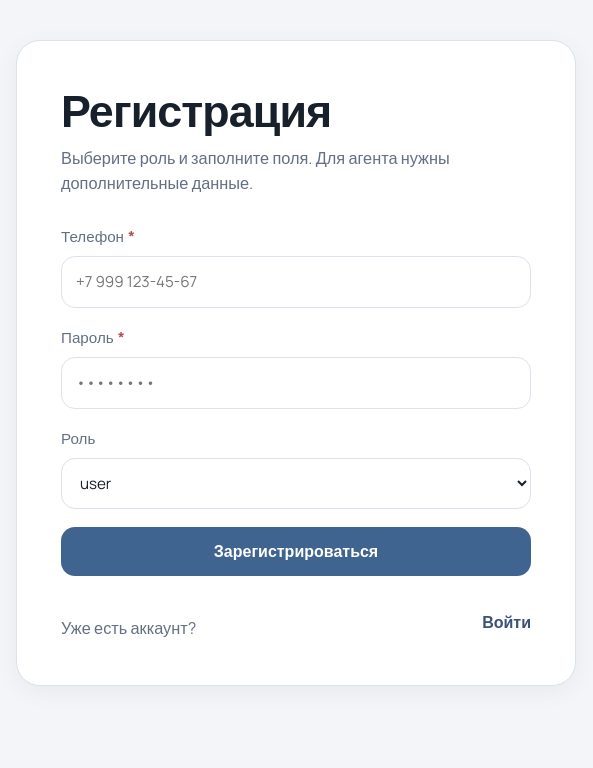
RegisterPage › shows validation error for agent role when service_name/email are empty
Select "agent" in the dropdown with id "register-role": (296, 484) [61, 458, 531, 509]
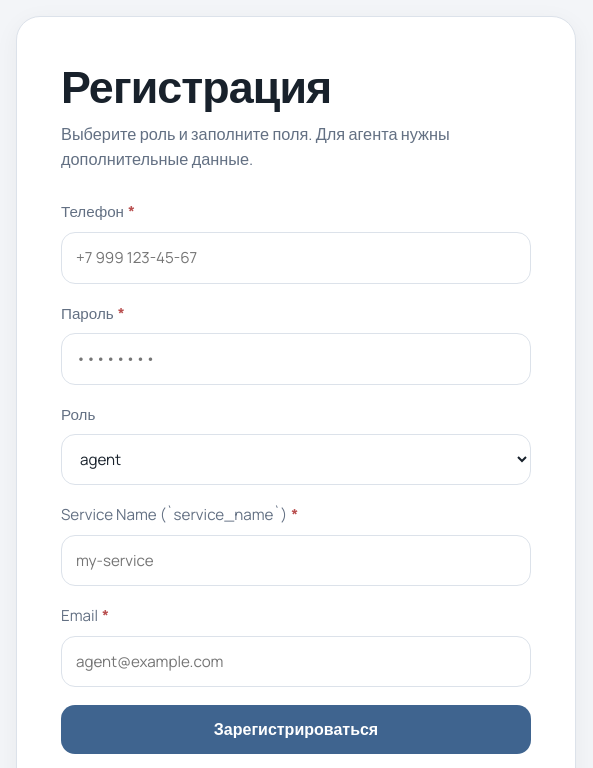
In the field with id "register-phone": (296, 258) [61, 232, 531, 284], type "79991112233"
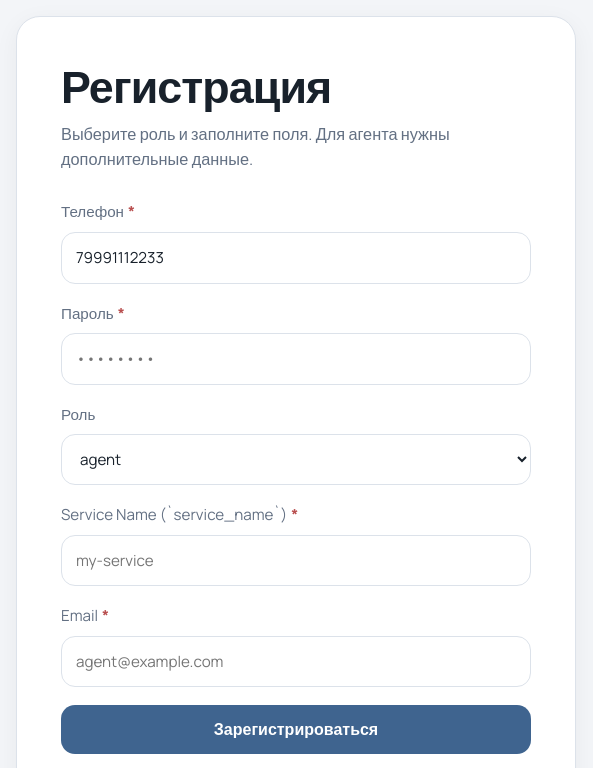
In the password field with id "register-password": (296, 359) [61, 333, 531, 385], type "secret123"
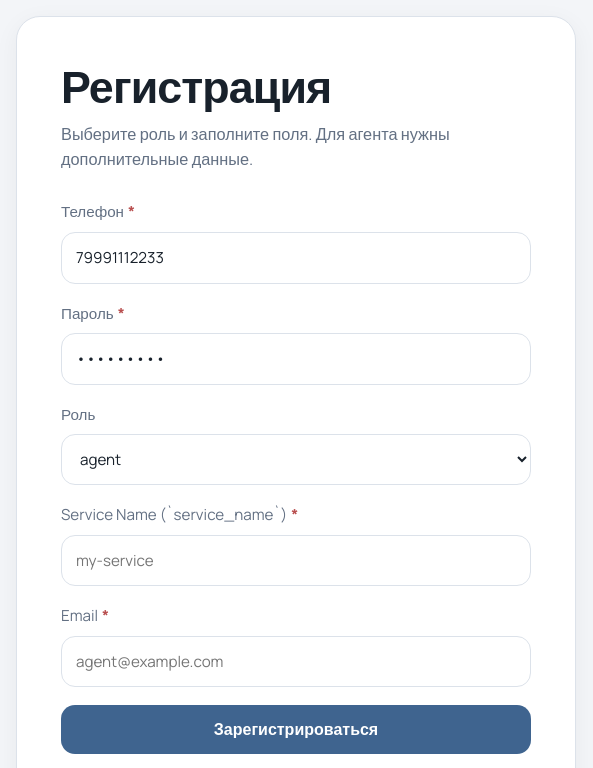
Submit the form, box [61, 200, 531, 754]
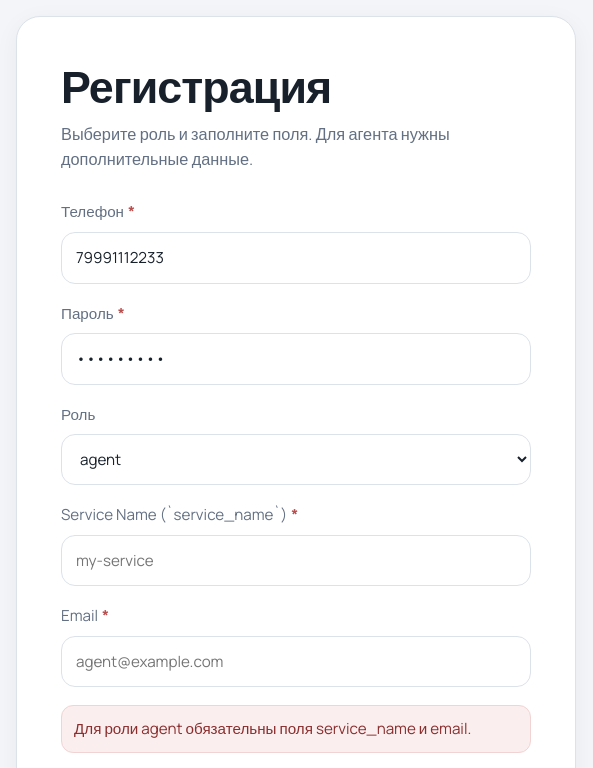
Expected: the text "обязательны поля service_name и email" is shown, [74, 718, 471, 739]
